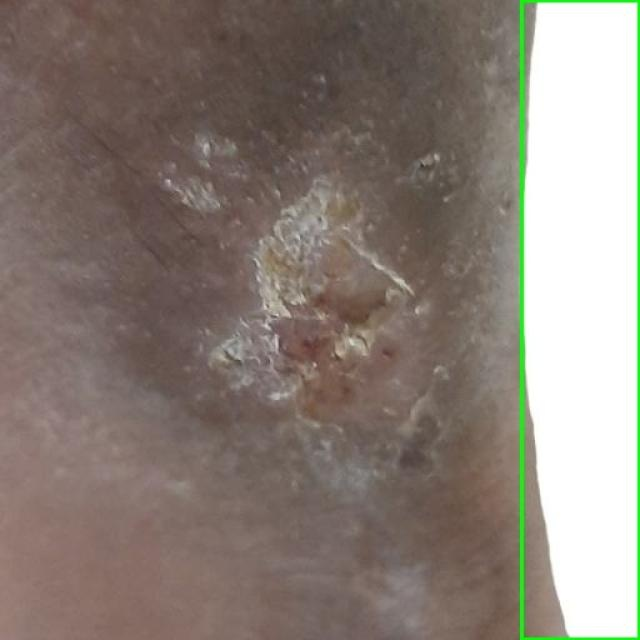Eczema: (521, 0, 639, 639)
